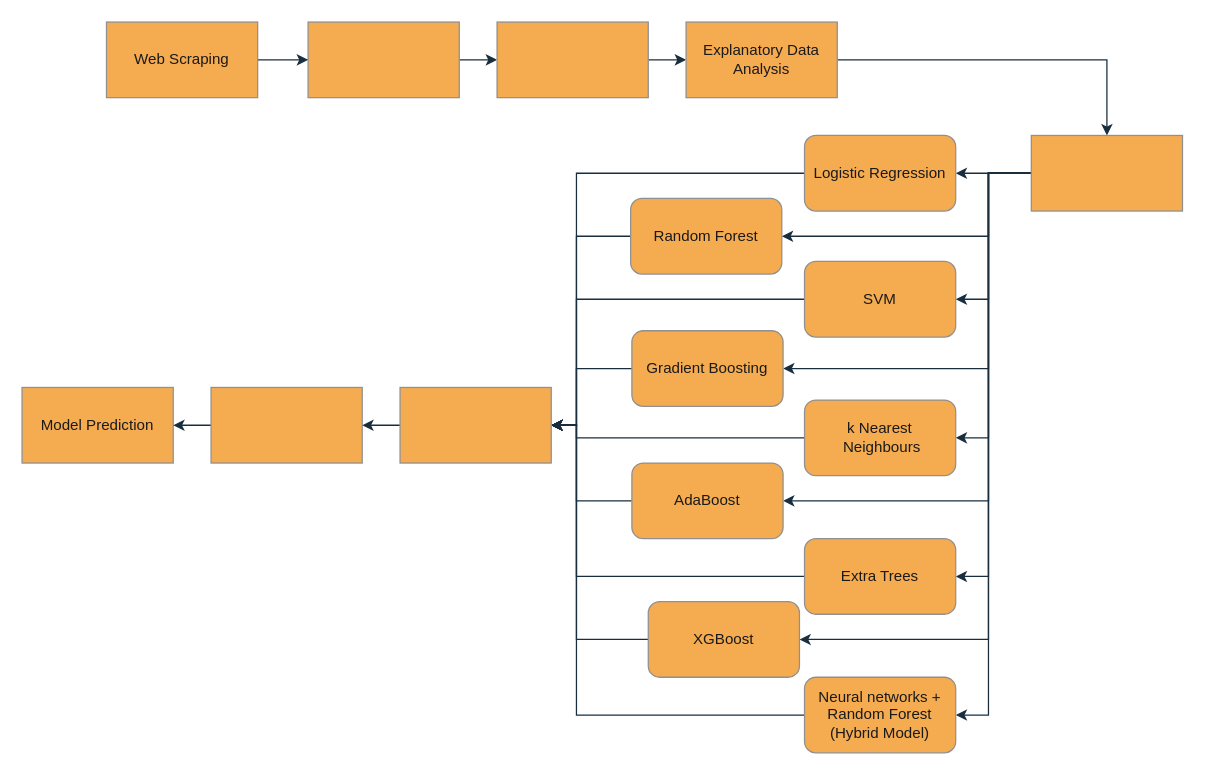
The diagram is 1205 pixels wide and 775 high, and some of its shapes have lost their labels. Here are the shapes that lost their labels. From the top down, the centre of each, then its label:
At point 383,59: "Data Collection".
At point 572,59: "Data Preprocessing".
At point 1106,172: "Training ML Models".
At point 286,424: "Performance Analysis".
At point 475,424: "Final Output".
